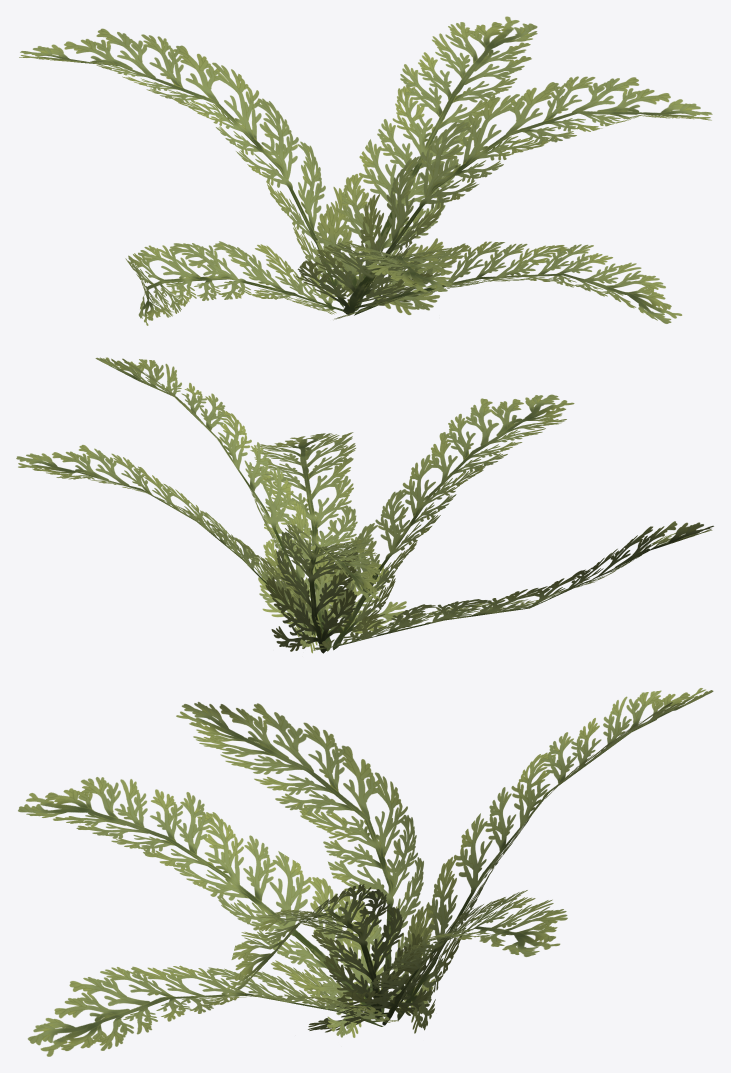
File: SM_Plant_Grass_Yarrow_04.gltf
3 renders of one model, top to bottom at view 1: azimuth 30°, elevation 25°; view 2: azimuth 150°, elevation 25°; view 3: azimuth 270°, elevation 25°, orthographic. The views are drawn at different scales.
Visible parts, largest first — view 1: SM_Plant_Grass_Yarrow_04; view 2: SM_Plant_Grass_Yarrow_04; view 3: SM_Plant_Grass_Yarrow_04.
Boxes of the visible parts, bbox=[...] form: SM_Plant_Grass_Yarrow_04: bbox=[19, 16, 712, 325]; SM_Plant_Grass_Yarrow_04: bbox=[16, 357, 713, 653]; SM_Plant_Grass_Yarrow_04: bbox=[18, 688, 713, 1056].
Bounding box in the file's own units: 0.3164 × 0.1136 × 0.2811.
Materials: 1 (1 with a texture image).
